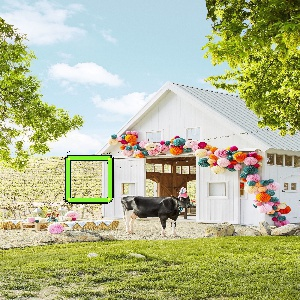square: (63, 152, 117, 206)
